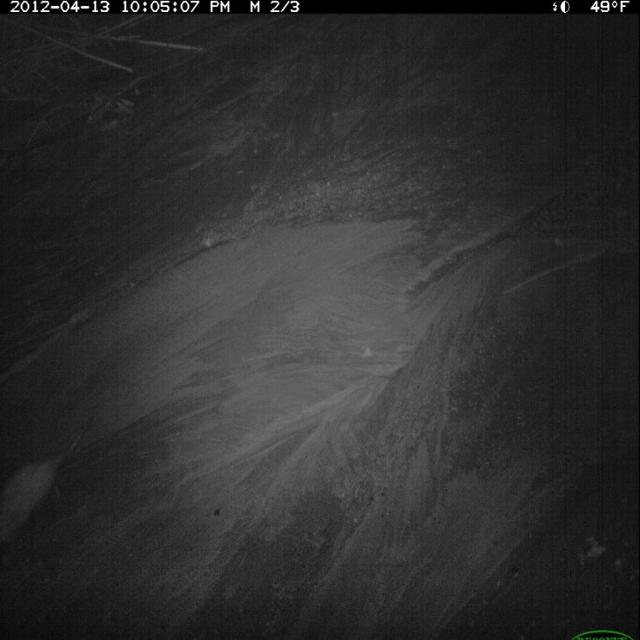opossum: (2, 416, 97, 559)
